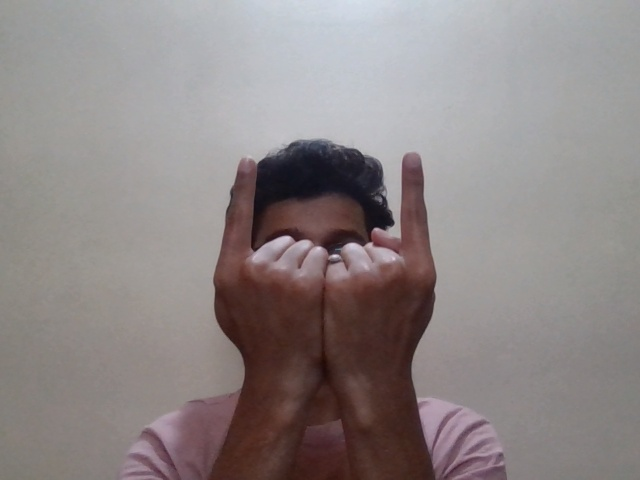when: (215, 140, 485, 391)
